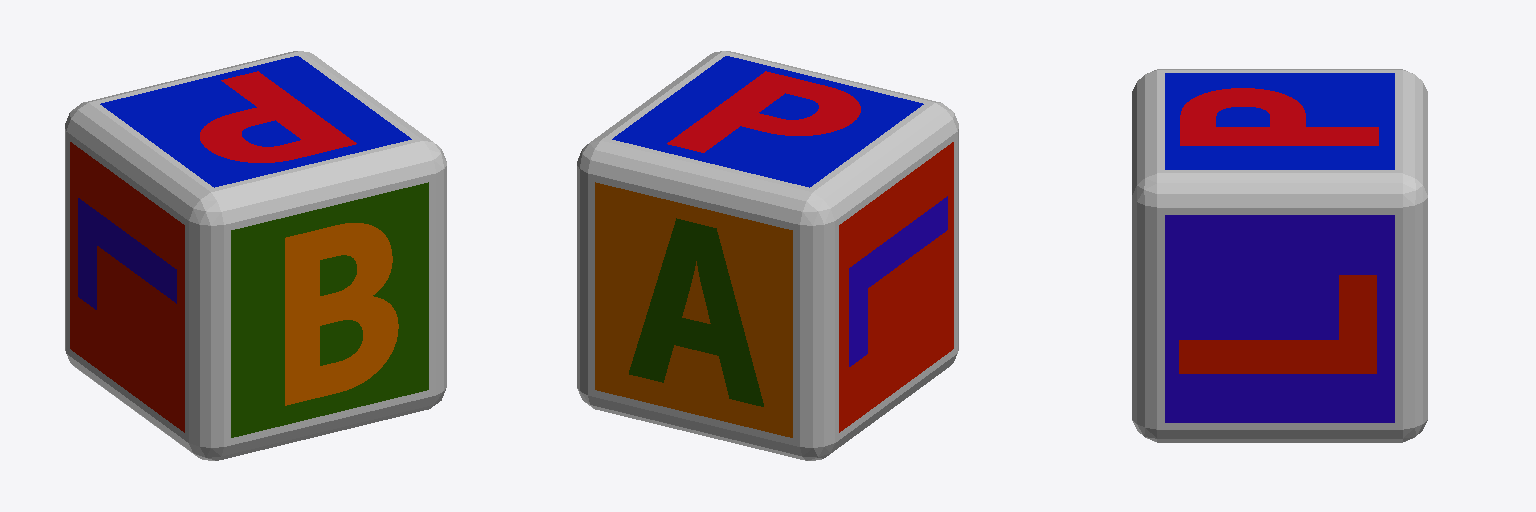
Rendered from play-area.obj.
3 renders of one model, left to right at view 1: azimuth 30°, elevation 25°; view 2: azimuth 150°, elevation 25°; view 3: azimuth 270°, elevation 25°, orthographic.
Bounding box in the file's own units: 0.6039 × 0.6039 × 0.6039.